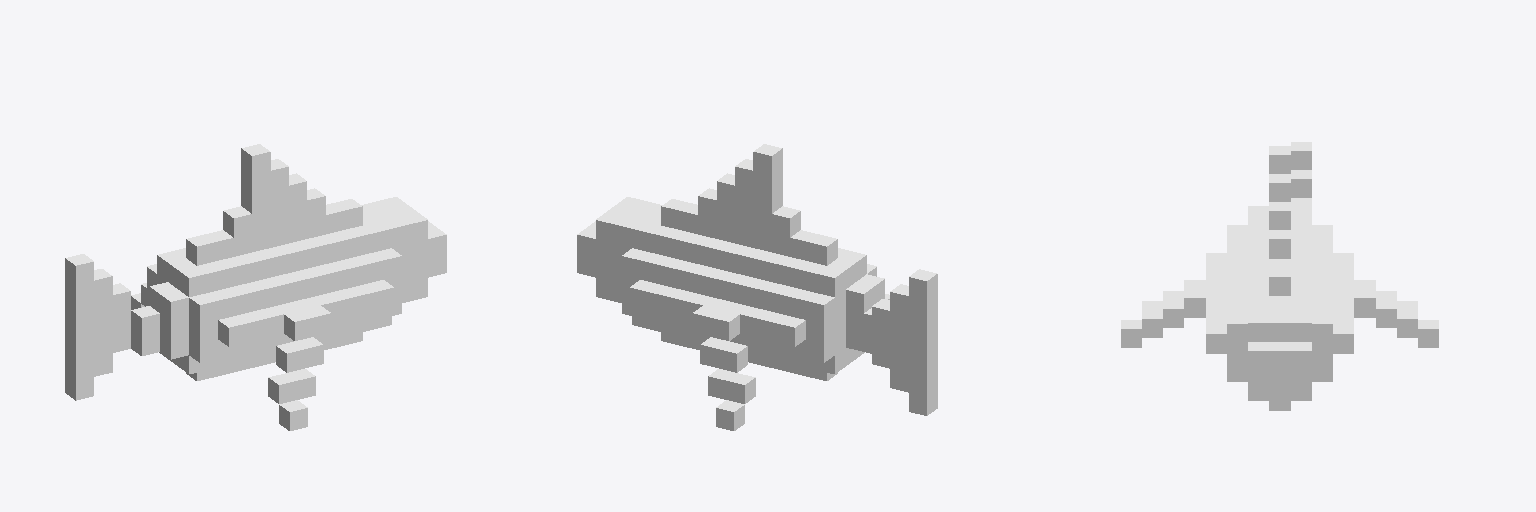
File: tibu2vox.obj
3 views of the same model, side by side, from view 1: azimuth 30°, elevation 25°; view 2: azimuth 150°, elevation 25°; view 3: azimuth 270°, elevation 25° (orthographic).
Parts seen in each view (by area): view 1: object 1; view 2: object 1; view 3: object 1.
Boxes of the visible parts, <box> form: object 1: <box>65,144,446,430</box>; object 1: <box>577,144,937,430</box>; object 1: <box>1121,142,1438,410</box>.
Bounding box in the file's own units: 1.9 × 1.1 × 1.5.